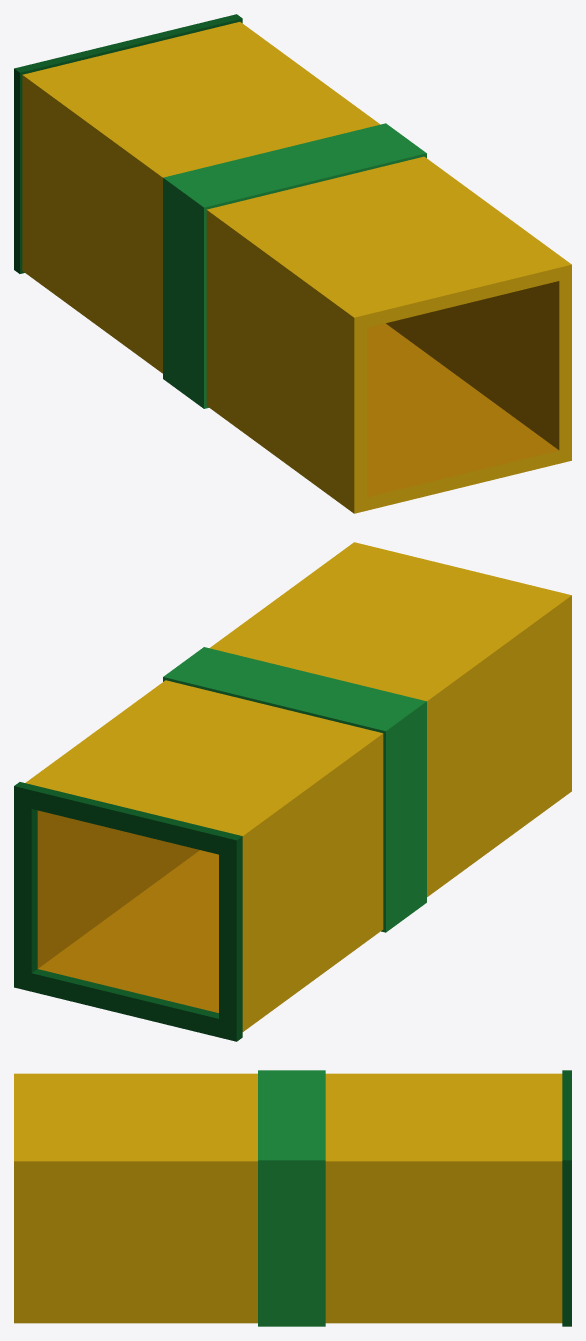
The model's file is body.fbx.
3 views of the same model, one above another, from view 1: azimuth 30°, elevation 25°; view 2: azimuth 150°, elevation 25°; view 3: azimuth 270°, elevation 25° (orthographic). The views are drawn at different scales.
Parts seen in each view (by area): view 1: body; view 2: body; view 3: body.
Part boxes in pixels (box(x1,y1,x2,y2)): body: box(14, 14, 571, 513); body: box(14, 542, 571, 1041); body: box(14, 1070, 571, 1326).
Size of the model in its own units: 0.88 by 0.76 by 2.31.
